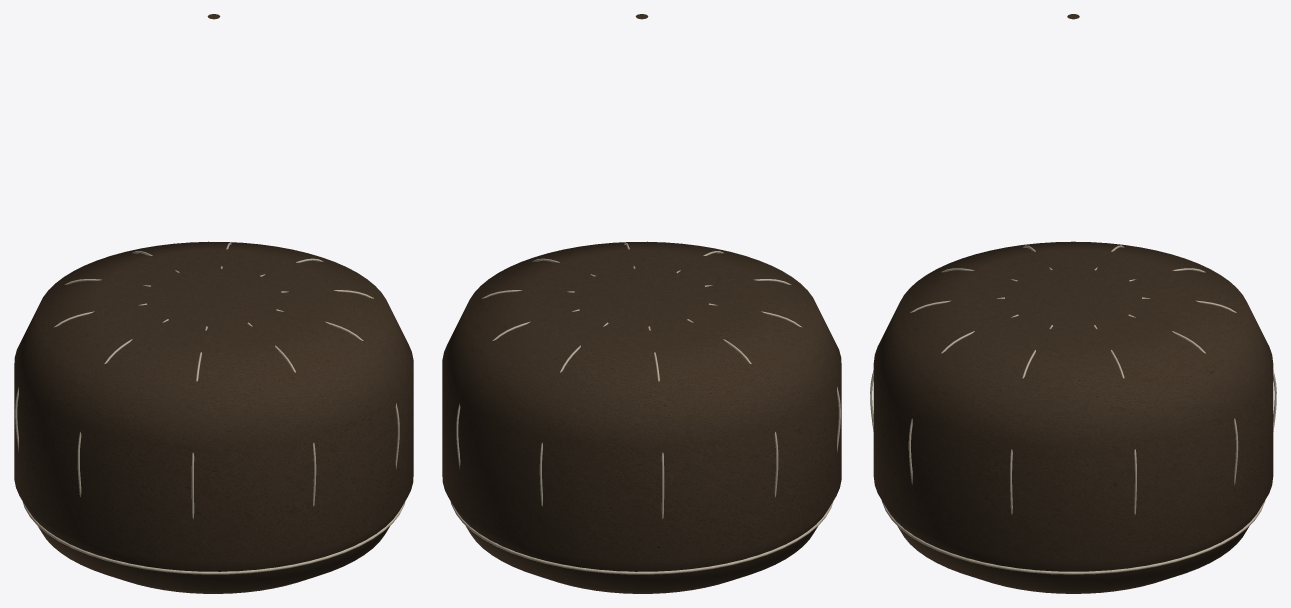
Rendered from luxury-round-pouf.glb.
The picture shows the model from 3 angles, left to right: view 1: azimuth 30°, elevation 25°; view 2: azimuth 150°, elevation 25°; view 3: azimuth 270°, elevation 25°; orthographic projection.
Parts seen in each view (by area): view 1: leather_0, seam_1; view 2: leather_0, seam_1; view 3: leather_0, seam_1.
Boxes of the visible parts, box(x1,y1,x2,y2) form: leather_0: box(14, 14, 413, 593); seam_1: box(15, 242, 405, 574); leather_0: box(442, 14, 841, 593); seam_1: box(450, 242, 840, 574); leather_0: box(873, 14, 1273, 593); seam_1: box(870, 245, 1276, 574).
Size of the model in its own units: 0.7 by 1 by 0.7127.
2 materials, 1 textured.
